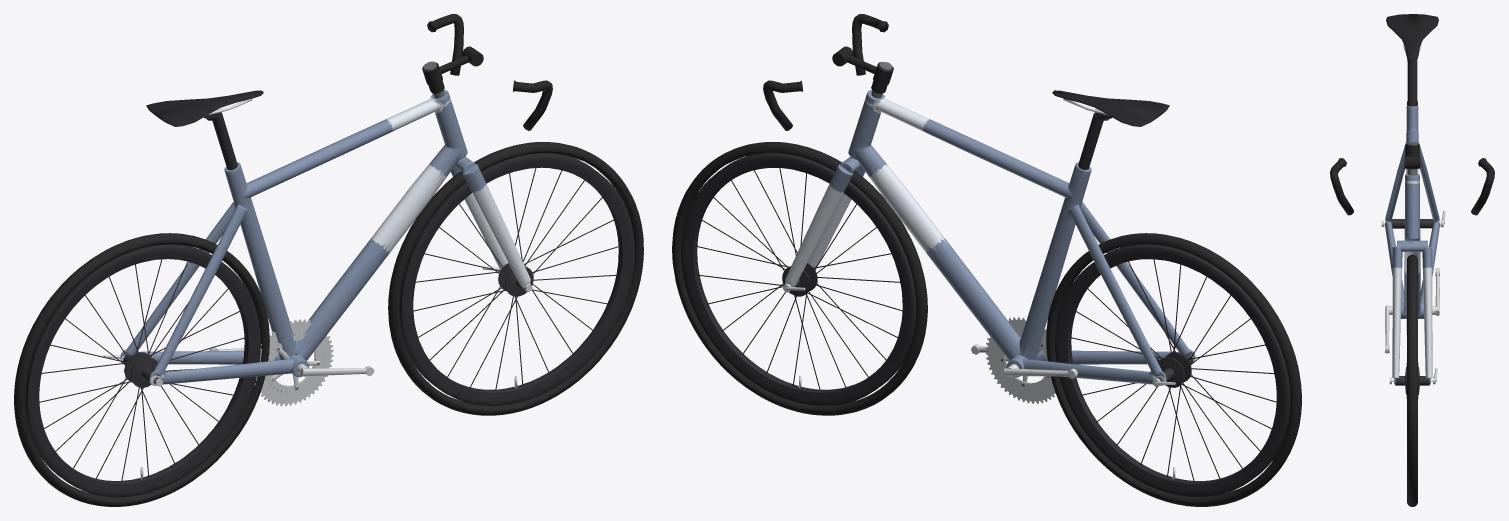
Rendered from bike_lite.glb.
3 views of the same model, side by side, from view 1: azimuth 30°, elevation 25°; view 2: azimuth 150°, elevation 25°; view 3: azimuth 270°, elevation 25° (orthographic). The views are drawn at different scales.
Visible parts, largest first — view 1: fork, saddle, tyre_front, dropbar; view 2: fork, saddle, tyre_front, dropbar; view 3: fork, dropbar, tyre_front, saddle.
Boxes of the visible parts, <box> form: fork: <box>120,90,530,385</box>; saddle: <box>25,90,634,497</box>; tyre_front: <box>14,142,643,506</box>; dropbar: <box>39,14,619,481</box>; fork: <box>785,90,1195,385</box>; saddle: <box>681,90,1290,496</box>; tyre_front: <box>672,142,1301,506</box>; dropbar: <box>696,14,1276,481</box>; fork: <box>1385,105,1439,384</box>; dropbar: <box>1330,44,1494,398</box>; tyre_front: <box>1407,101,1417,506</box>; saddle: <box>1386,14,1438,60</box>.
Size of the model in its own units: 1.69 by 0.9858 by 0.4451.
4 materials, 4 textured.
